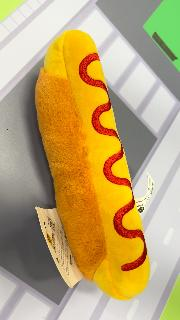hotdog: (35, 29, 152, 301)
